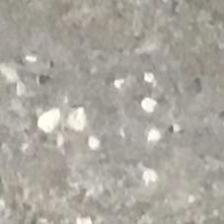Non_Crack: (7, 17, 182, 198)
